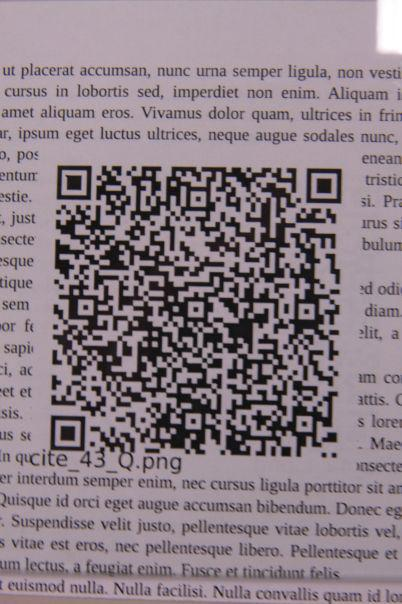Finder pattern: (53, 155, 97, 205), (296, 165, 348, 207), (45, 412, 93, 455)
